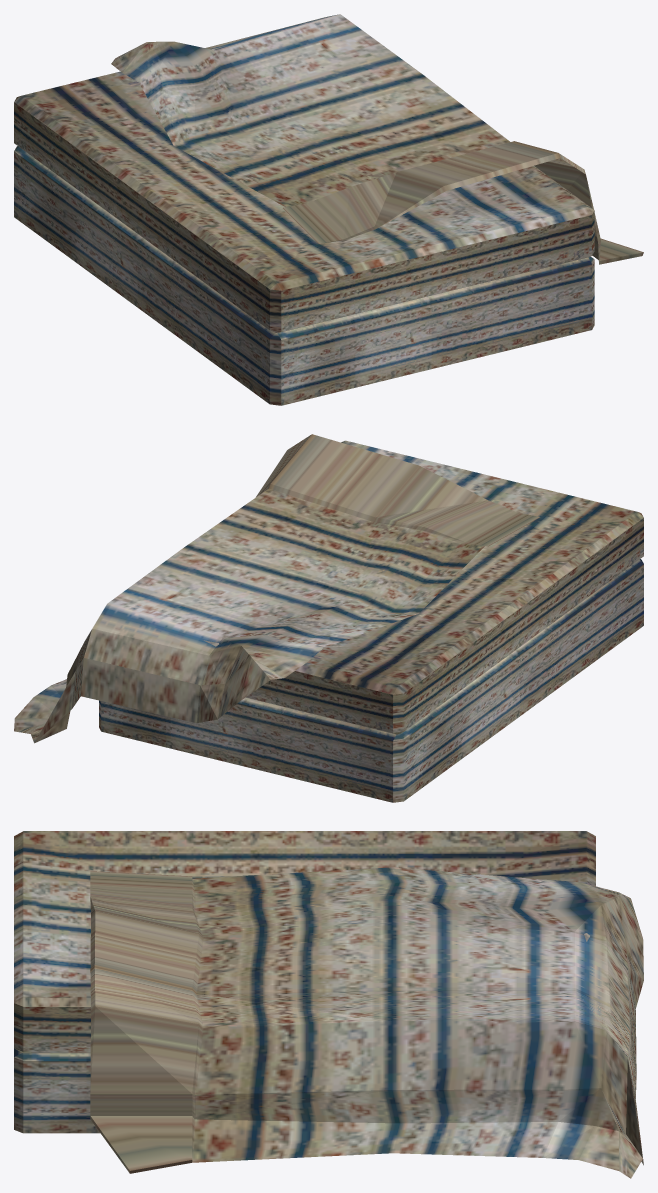
Rendered from lova.obj.
3 renders of one model, top to bottom at view 1: azimuth 30°, elevation 25°; view 2: azimuth 150°, elevation 25°; view 3: azimuth 270°, elevation 25°, orthographic. The views are drawn at different scales.
Bounding box in the file's own units: 2.54 × 0.9069 × 2.97.
Materials: 1 (1 with a texture image).
